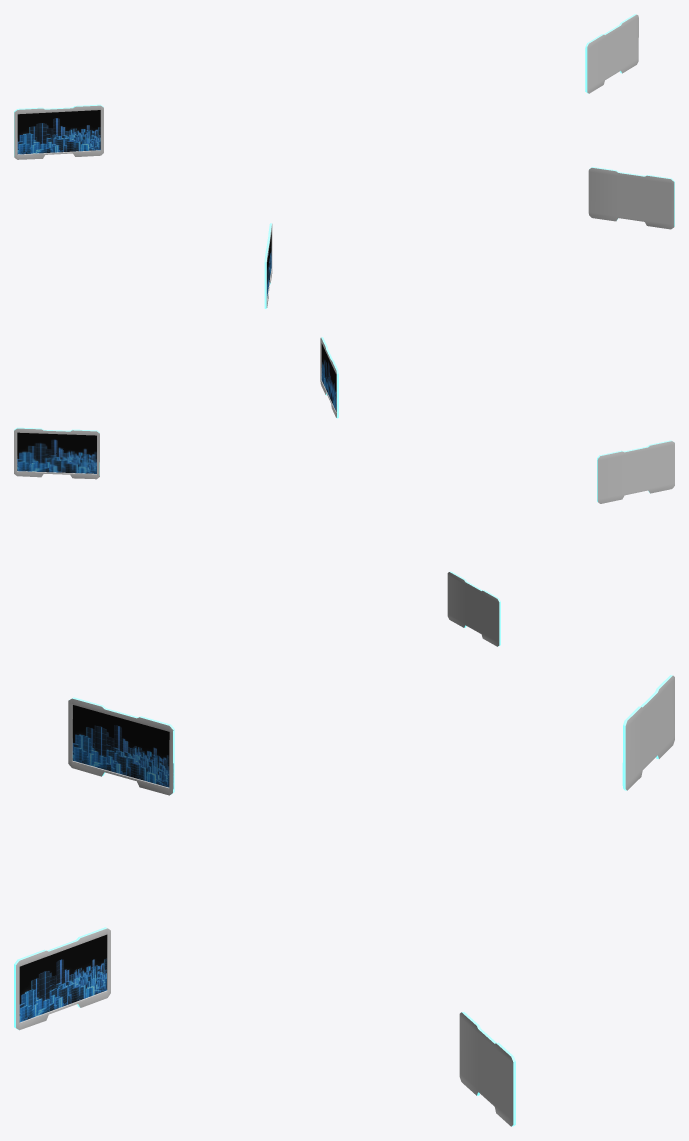
Rendered from MeshBaker (0)-mesh-mesh.fbx.
The picture shows the model from 3 angles, top to bottom: view 1: azimuth 30°, elevation 25°; view 2: azimuth 150°, elevation 25°; view 3: azimuth 270°, elevation 25°; orthographic projection. The views are drawn at different scales.
Parts seen in each view (by area): view 1: MeshBaker__0__mesh_mesh; view 2: MeshBaker__0__mesh_mesh; view 3: MeshBaker__0__mesh_mesh.
Part boxes in pixels (left/top/right/bottom): MeshBaker__0__mesh_mesh: left=14, top=14, right=674, bottom=308; MeshBaker__0__mesh_mesh: left=14, top=337, right=674, bottom=646; MeshBaker__0__mesh_mesh: left=14, top=675, right=674, bottom=1126.
Size of the model in its own units: 2220 by 188 by 1609.
